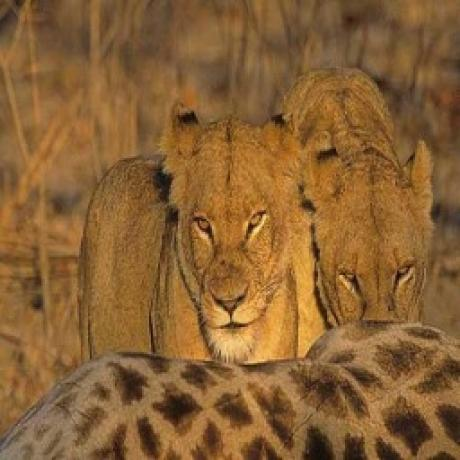Lion: (71, 105, 303, 363), (279, 58, 436, 324)
